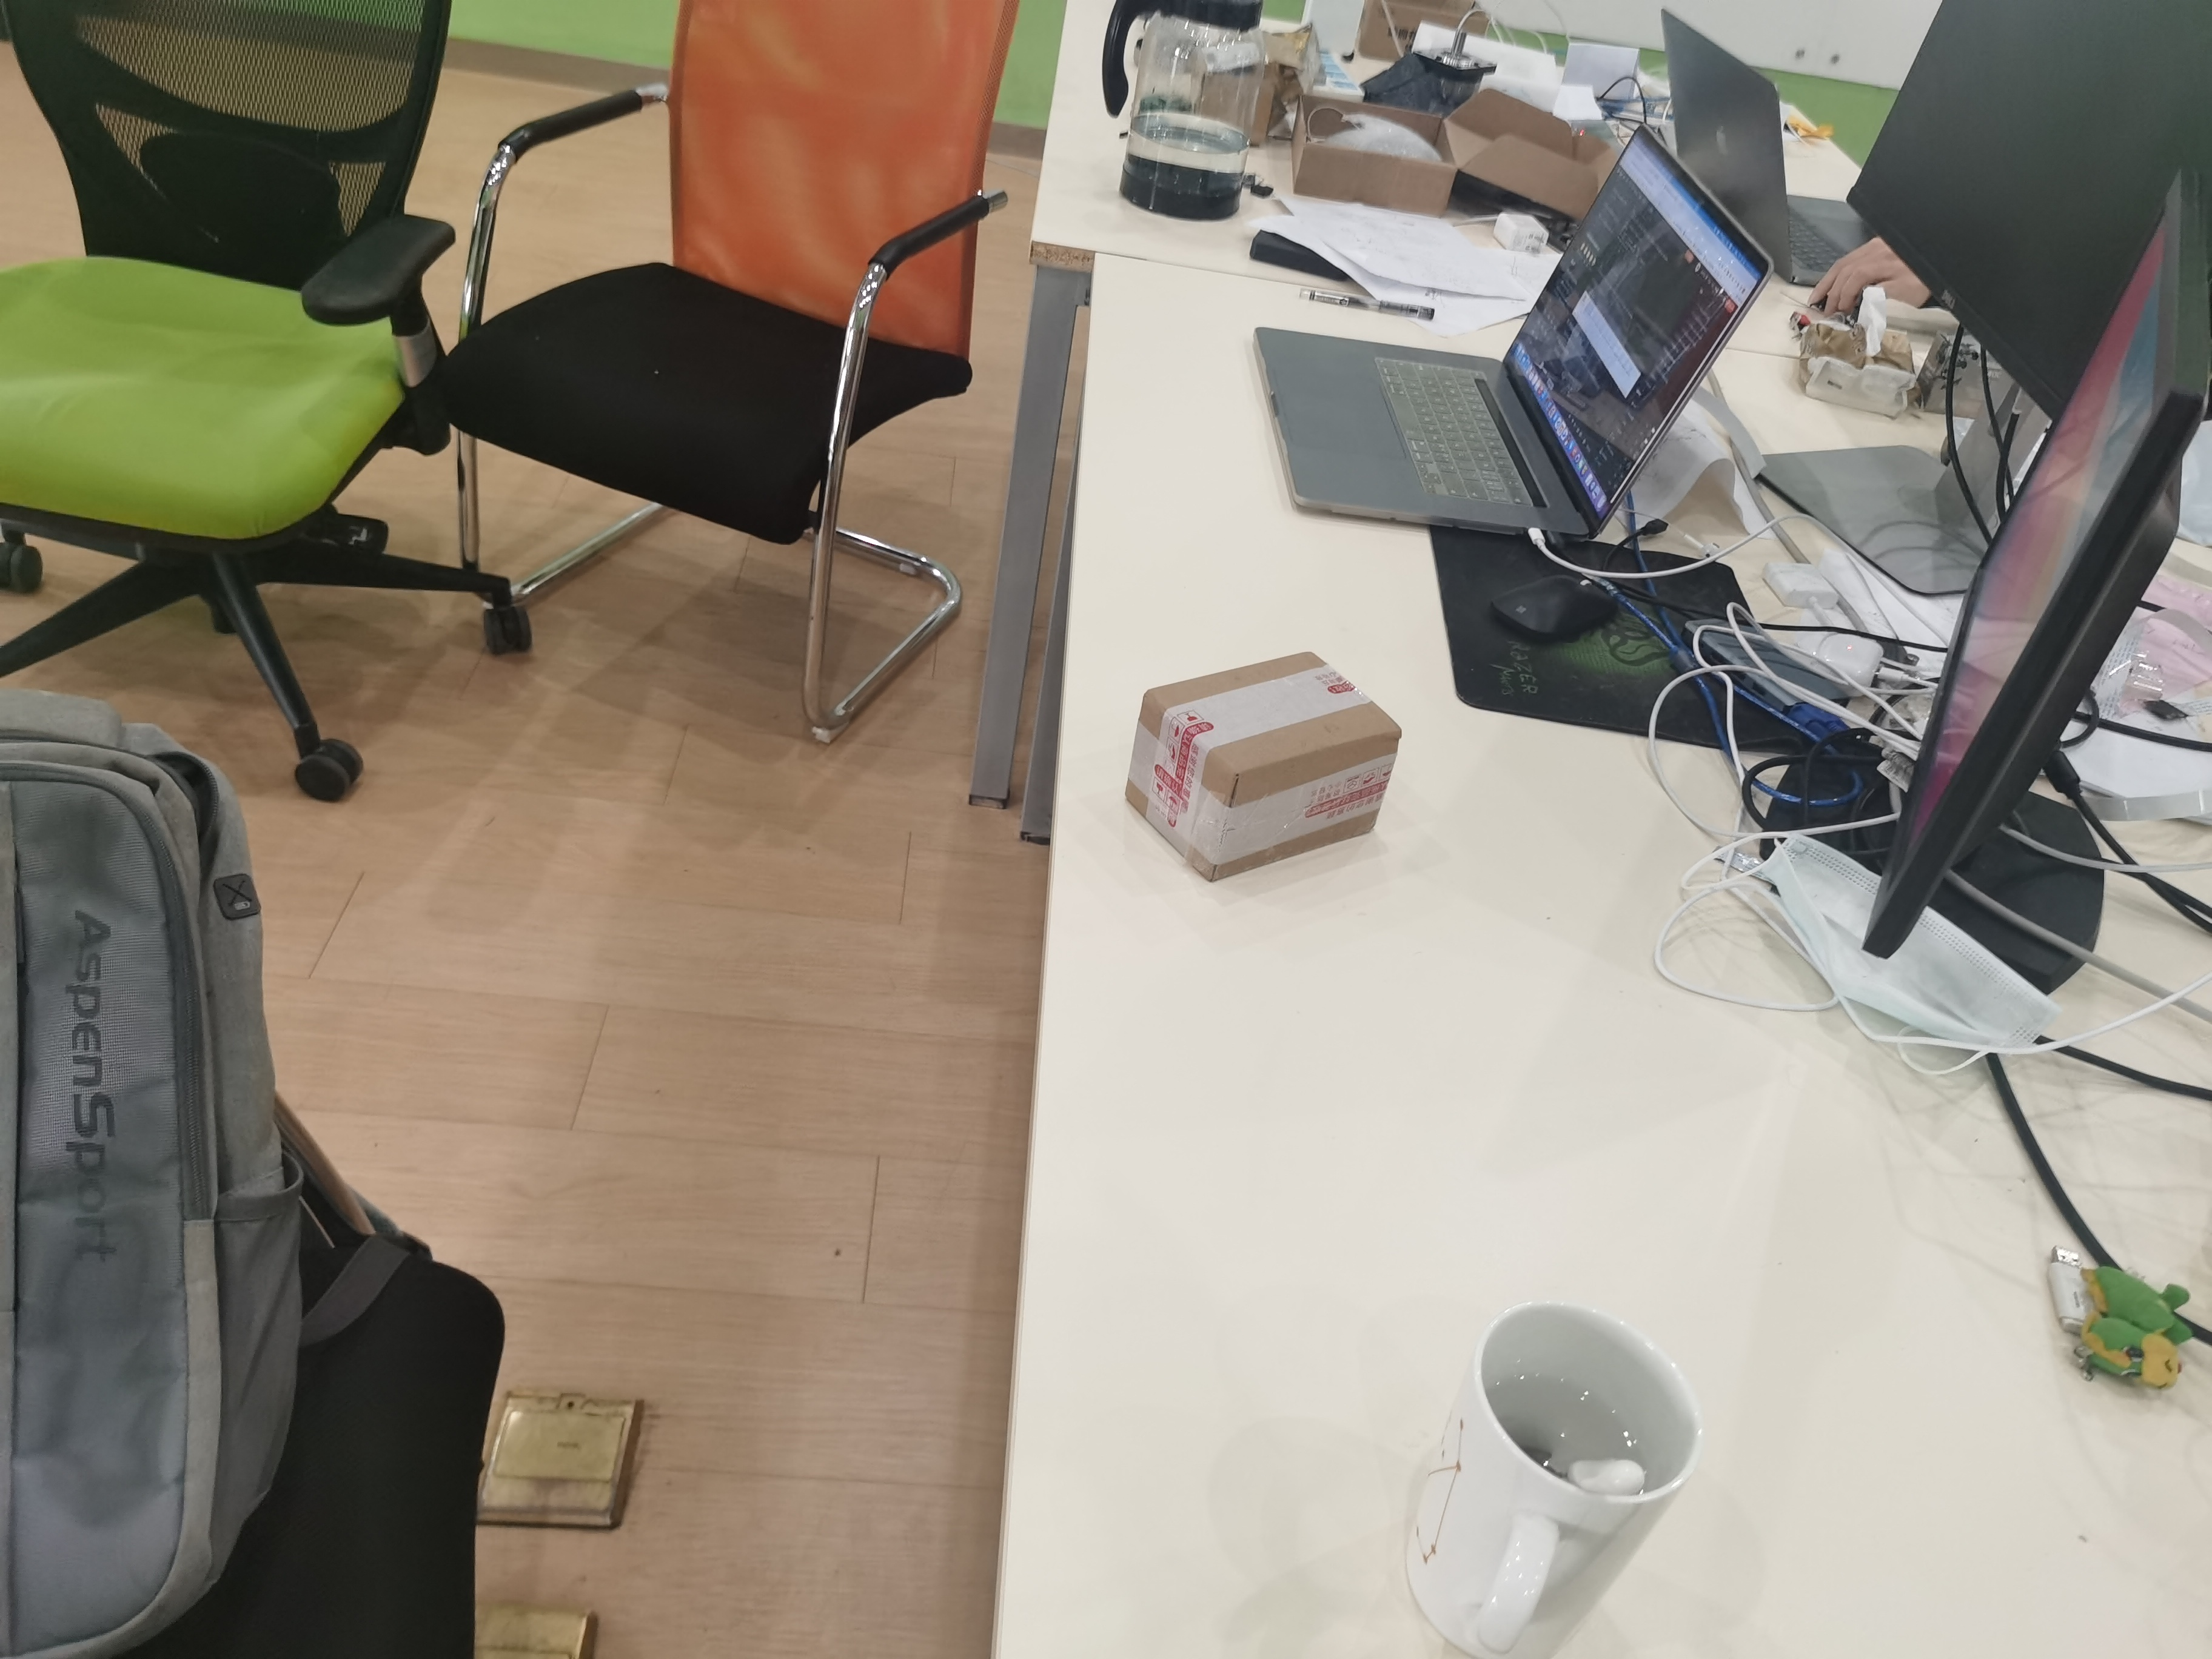box: (1125, 653, 1399, 882)
